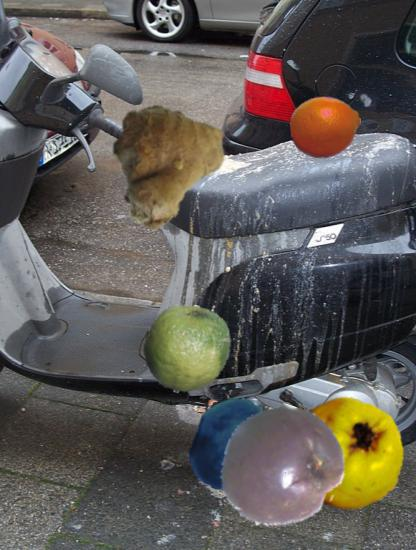Ginger: (105, 104, 233, 232)
Huckleberry: (185, 397, 280, 492)
Limes: (142, 304, 232, 394)
Passion: (221, 406, 347, 532)
Quince: (289, 396, 405, 512)
Tangelo: (290, 92, 362, 164)
